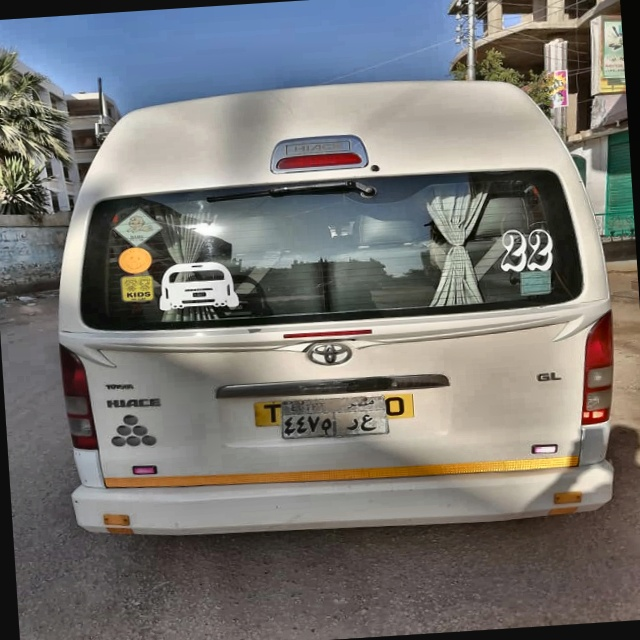License Plate: (279, 395, 389, 441)
